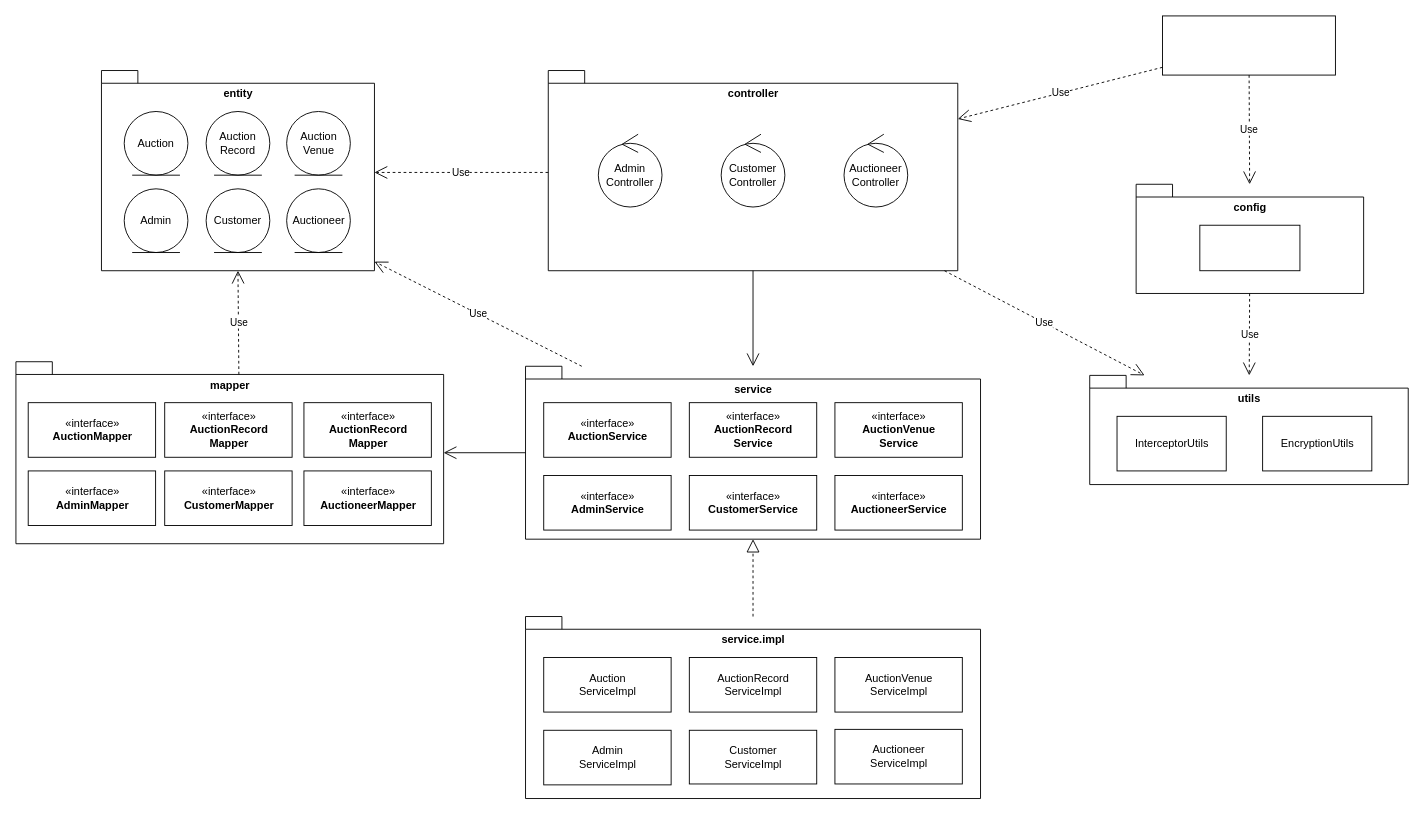
Image size: 1424x814. Some labels were removed from this diagram. The centre of each missing label's shape, as x and y in pixels:
AuctionSpringBootApplication: pixel 1248 45
WebConfig: pixel 1249 247
